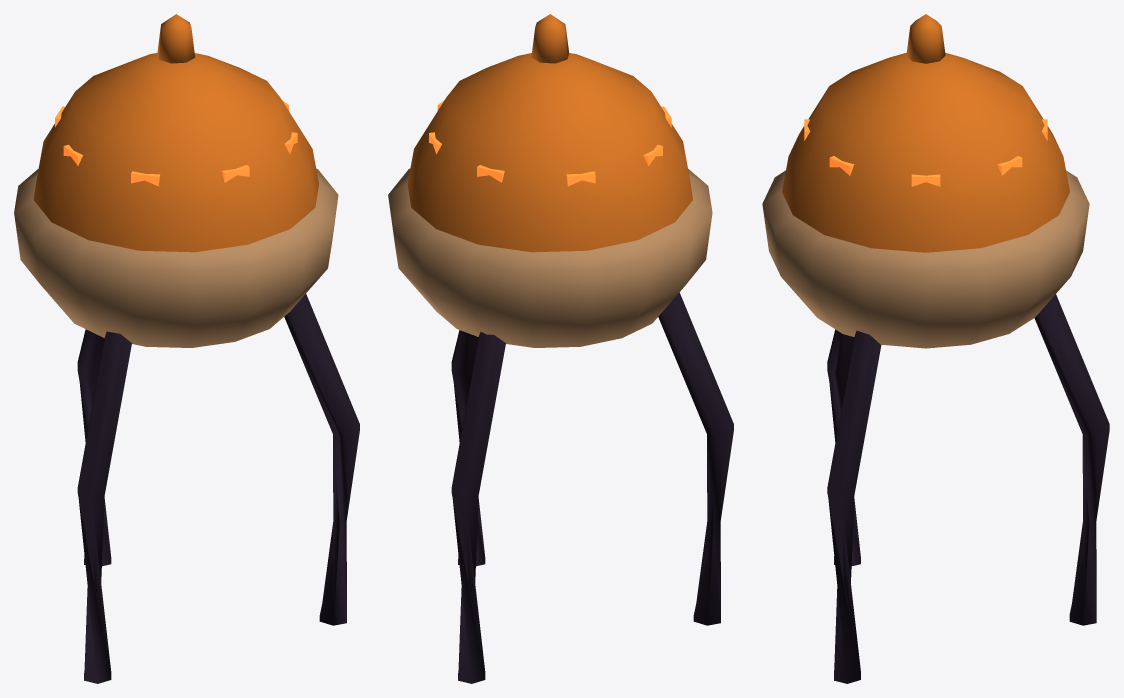
File: incense_burner.glb
3 renders of one model, left to right at view 1: azimuth 30°, elevation 25°; view 2: azimuth 150°, elevation 25°; view 3: azimuth 270°, elevation 25°, orthographic.
Visible parts, largest first — view 1: incense_burner; view 2: incense_burner; view 3: incense_burner.
Part boxes in pixels (x1,y1,x2,y2): incense_burner: (14, 14, 359, 683); incense_burner: (388, 14, 733, 683); incense_burner: (762, 14, 1109, 683).
Bounding box in the file's own units: 0.25 × 0.5106 × 0.2653.
